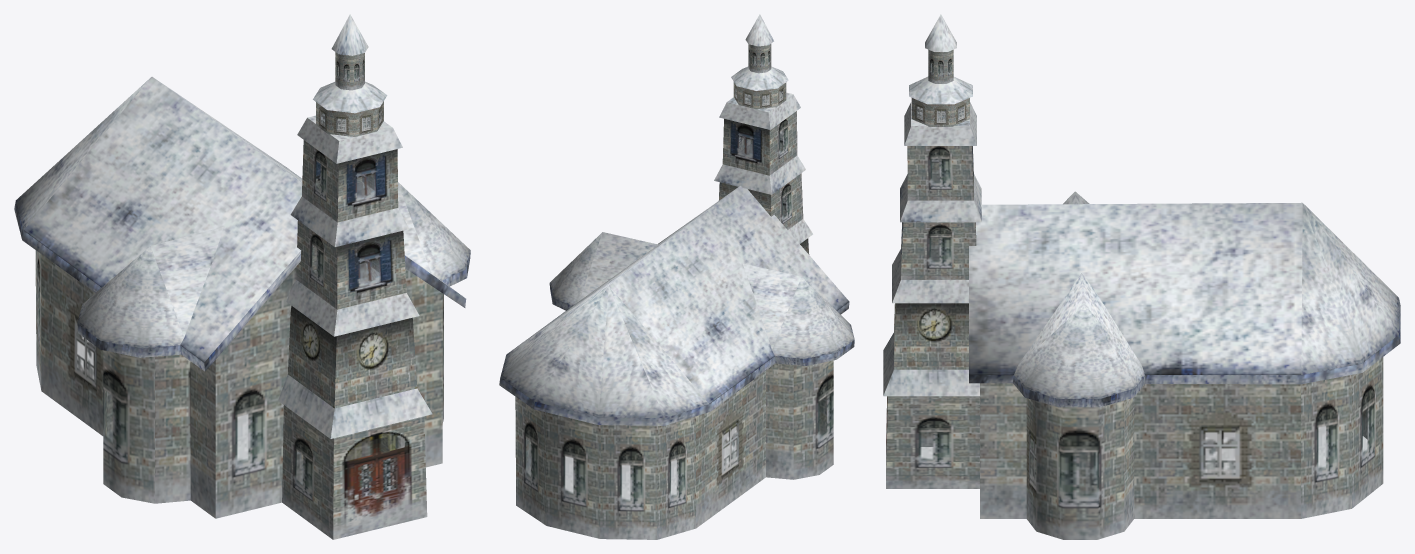
Rendered from Civilian - Civilian Building - G Chrch 01 - Snow - CBGChrch01_s.glb.
3 views of the same model, side by side, from view 1: azimuth 30°, elevation 25°; view 2: azimuth 150°, elevation 25°; view 3: azimuth 270°, elevation 25° (orthographic). The views are drawn at different scales.
Parts seen in each view (by area): view 1: CBGCHRCH01_S; view 2: CBGCHRCH01_S; view 3: CBGCHRCH01_S.
Boxes of the visible parts, left/top/right/bottom form: CBGCHRCH01_S: left=14, top=14, right=470, bottom=539; CBGCHRCH01_S: left=499, top=14, right=854, bottom=539; CBGCHRCH01_S: left=883, top=14, right=1400, bottom=539.
Size of the model in its own units: 77.44 by 98.42 by 102.
Materials: 1 (1 with a texture image).
